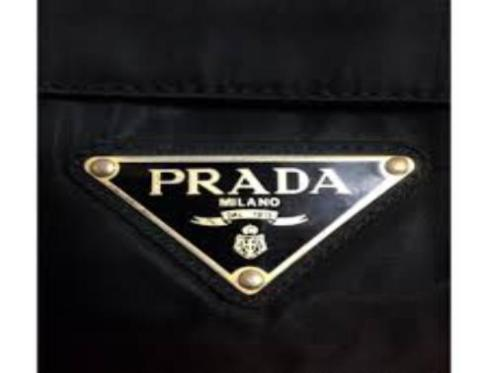PRADA: (142, 161, 353, 200)
